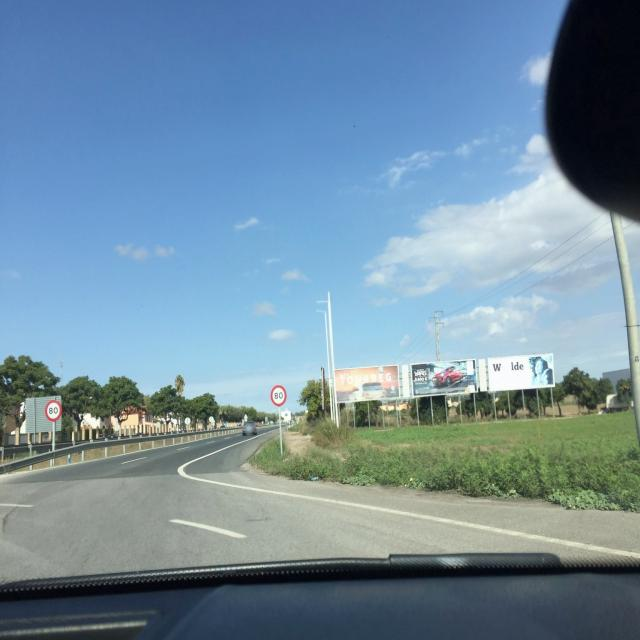car: (241, 420, 258, 438)
